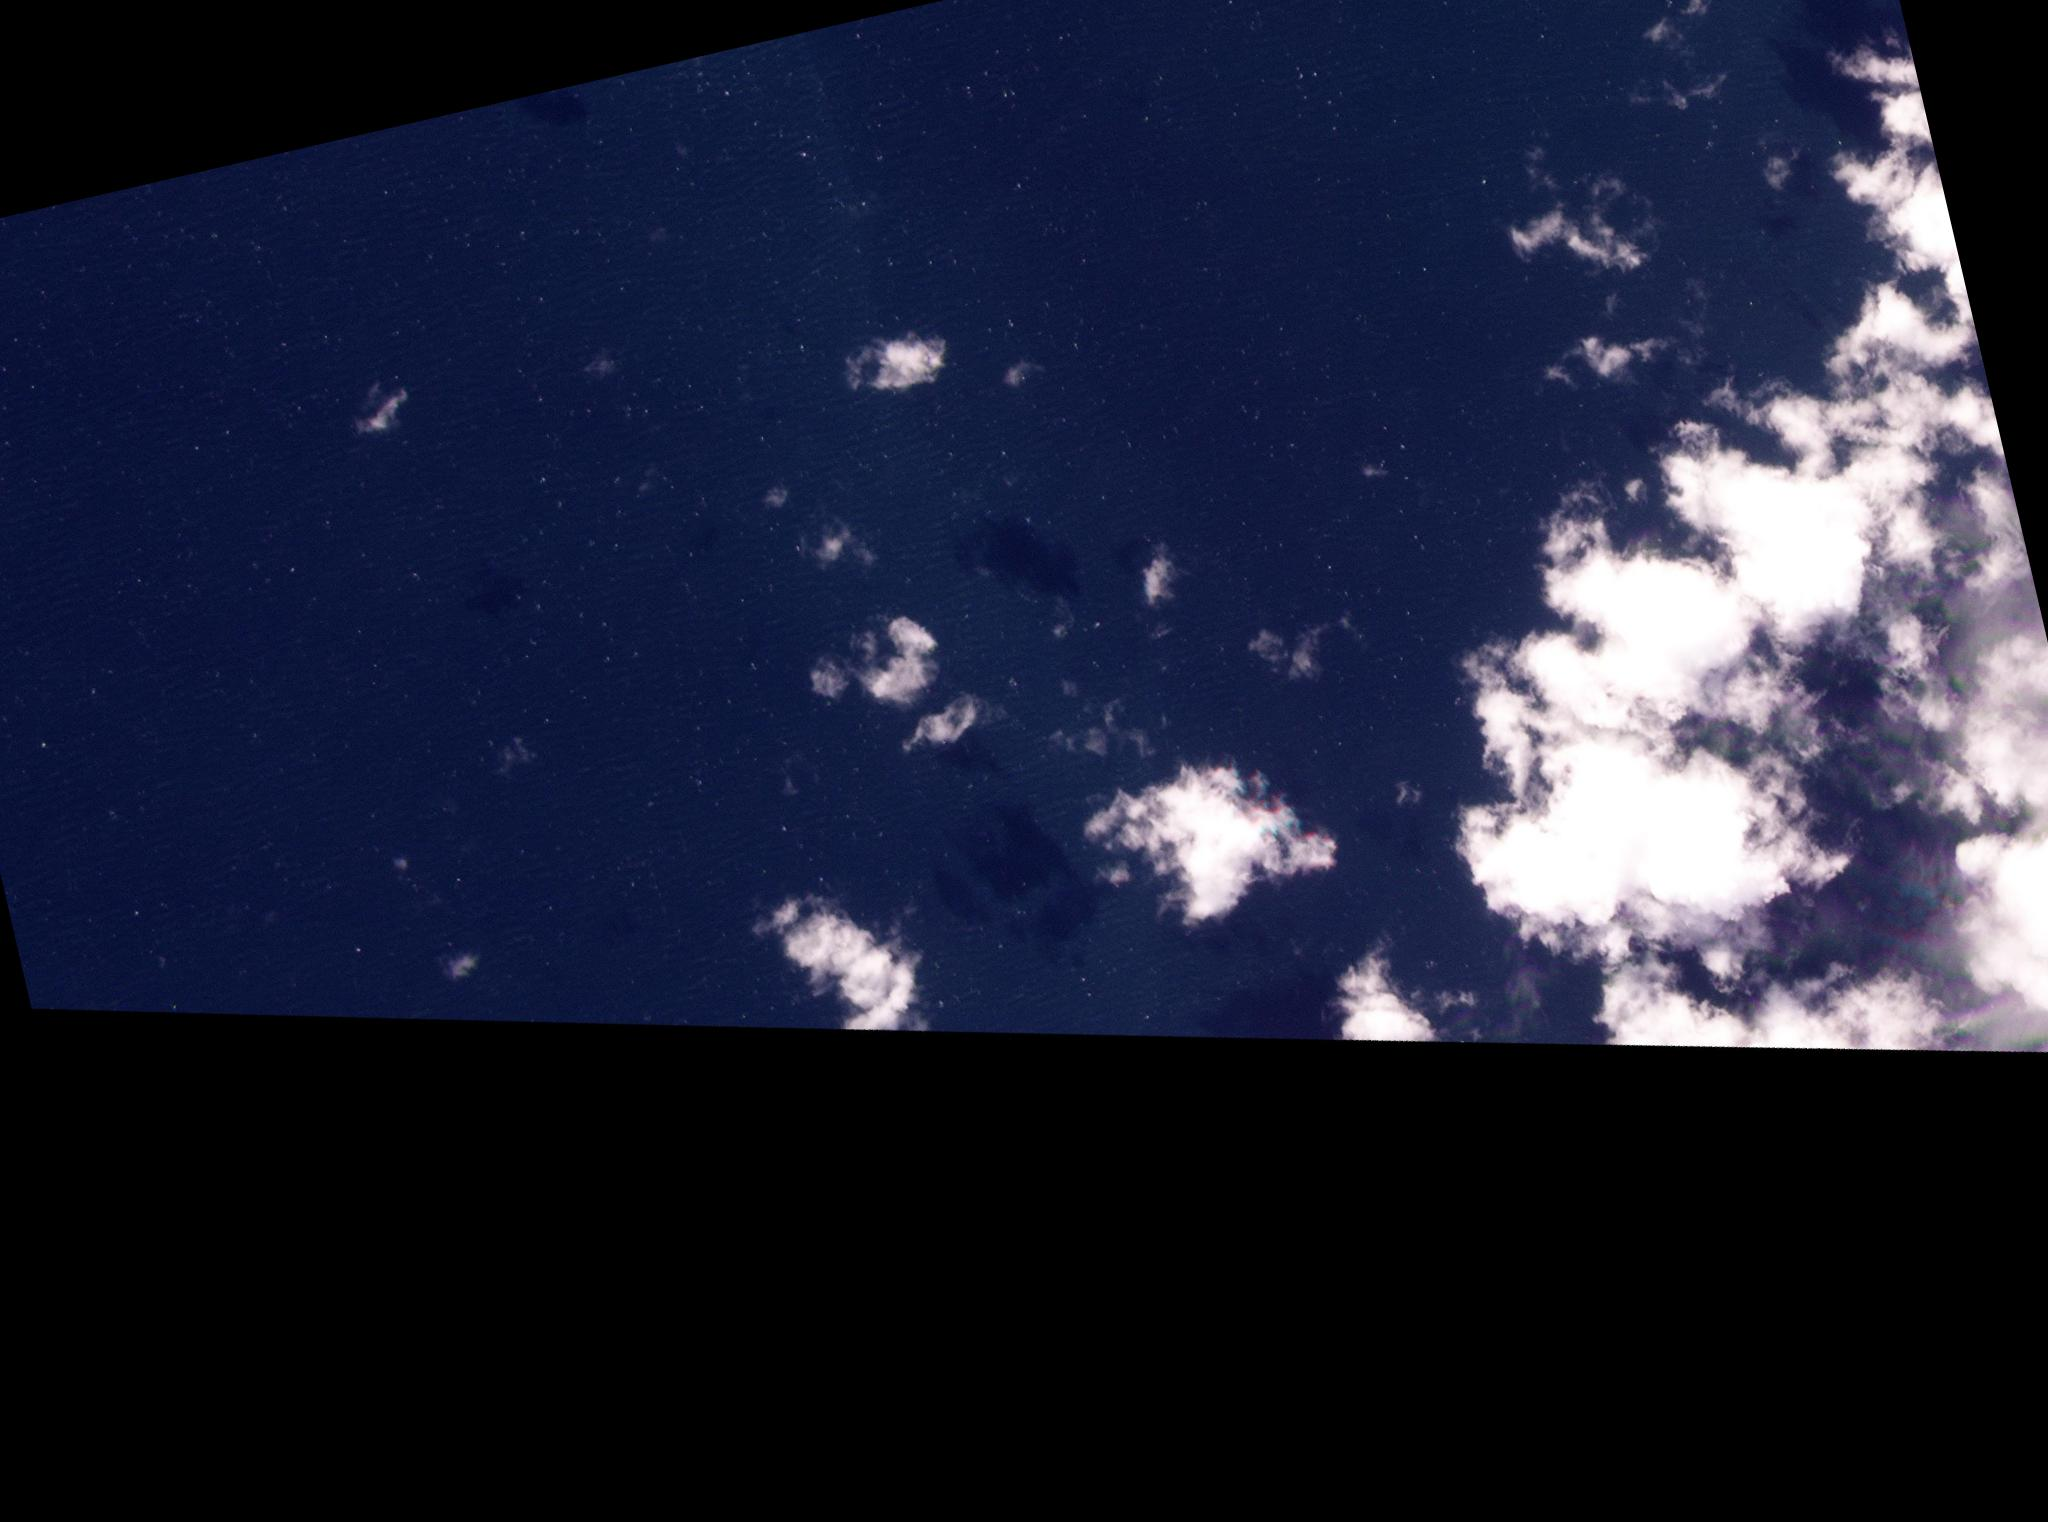ship: (1359, 157, 2043, 759), (1437, 694, 1853, 1009), (1893, 617, 2048, 1074), (1496, 19, 1667, 149), (788, 611, 946, 724), (1309, 929, 1439, 1065), (1591, 50, 1723, 133), (839, 325, 956, 406), (1867, 600, 1970, 692), (1907, 750, 1994, 841), (1273, 609, 1362, 683), (790, 512, 879, 582), (892, 697, 991, 759), (1906, 676, 1978, 737), (1564, 323, 1636, 380), (763, 737, 825, 803), (136, 384, 206, 438), (1169, 825, 1244, 875), (1608, 6, 1671, 66), (481, 731, 544, 788), (1130, 544, 1181, 611), (1215, 624, 1271, 673), (1751, 0, 1808, 42), (427, 945, 475, 991), (1012, 596, 1060, 643), (991, 357, 1047, 392), (1385, 756, 1428, 796), (588, 347, 604, 382), (1650, 8, 1720, 14), (769, 473, 780, 513), (1150, 609, 1165, 620), (189, 857, 200, 871), (1361, 465, 1378, 472), (825, 934, 825, 1004)
